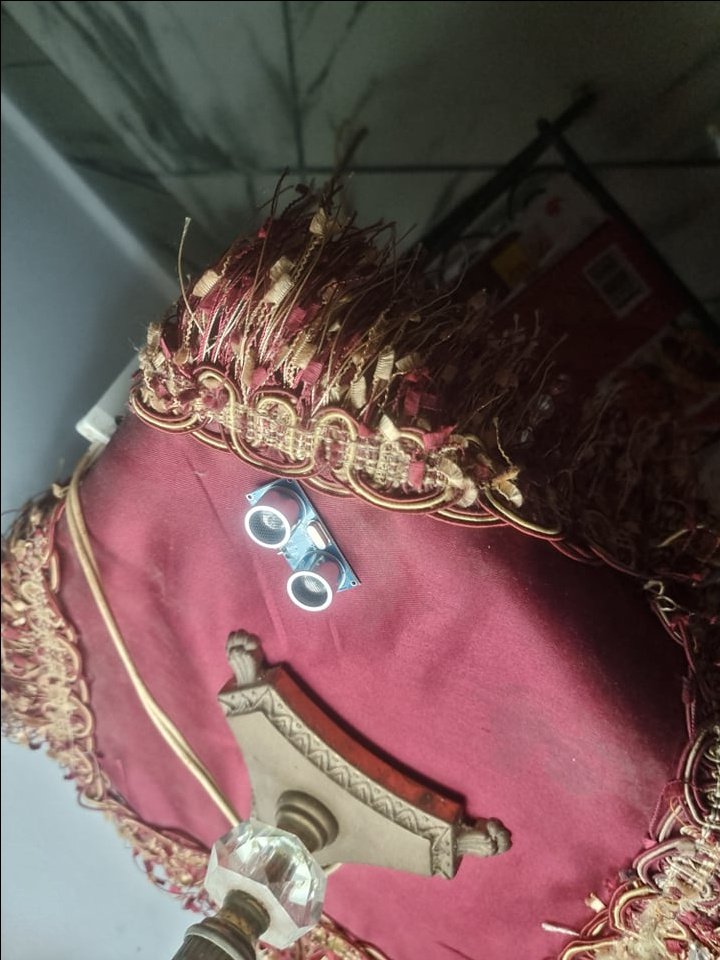SENSOR: (241, 474, 361, 613)
